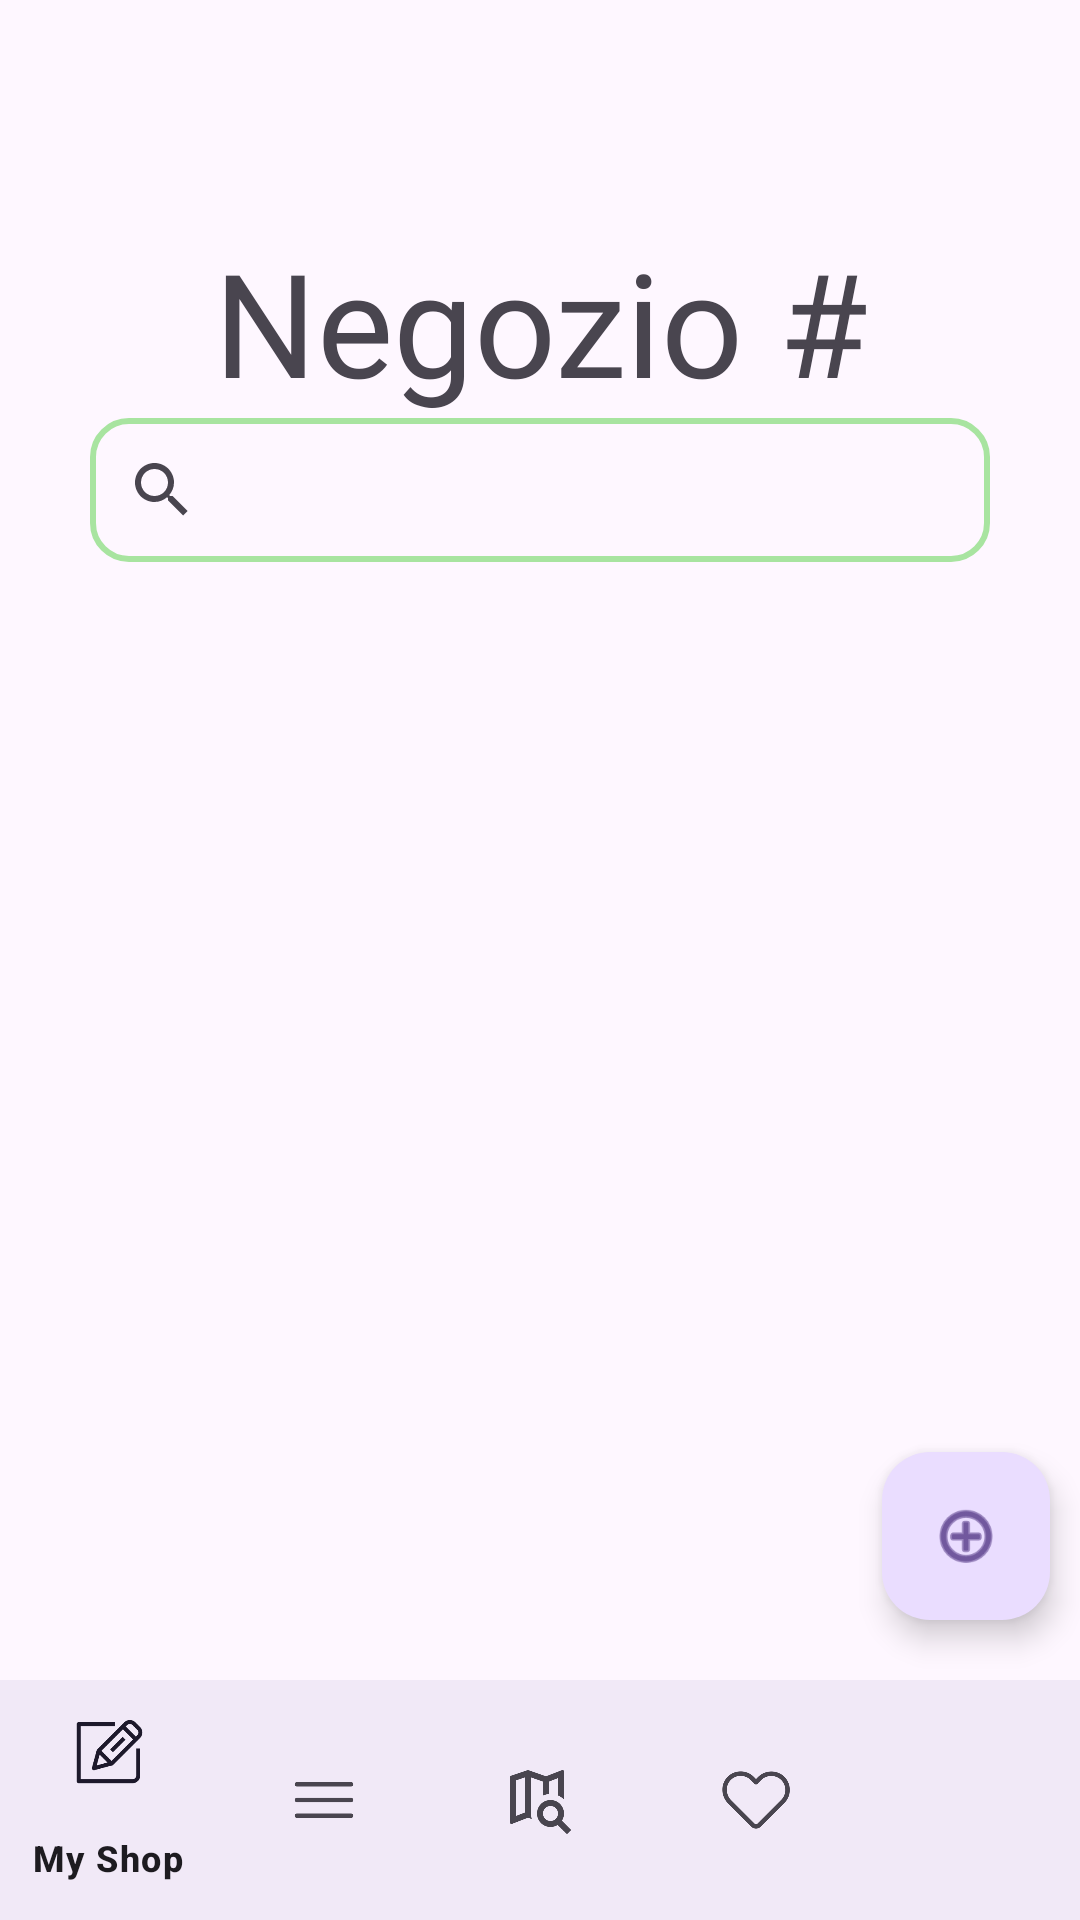

Named icons in this screenshot (1080*1920) and their bounding boxes, (x1, y1, x2, y2):
add: (939, 1509, 993, 1563)
